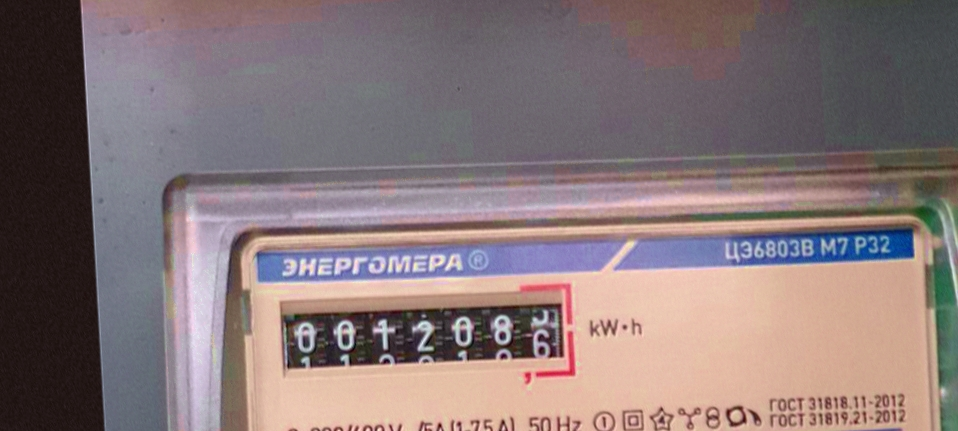0: (451, 312, 478, 348), (334, 315, 359, 353), (296, 317, 318, 355)
1: (375, 315, 394, 353)
2: (412, 317, 440, 354)
6: (530, 324, 555, 360)
8: (490, 311, 515, 348)
screen: (269, 272, 587, 407)
